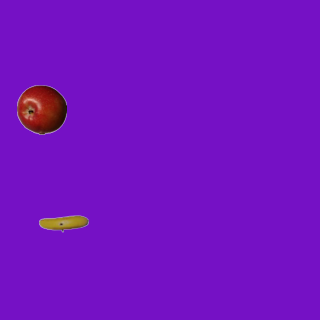Apple Braeburn: (16, 84, 66, 134)
Banana: (38, 198, 88, 248)
